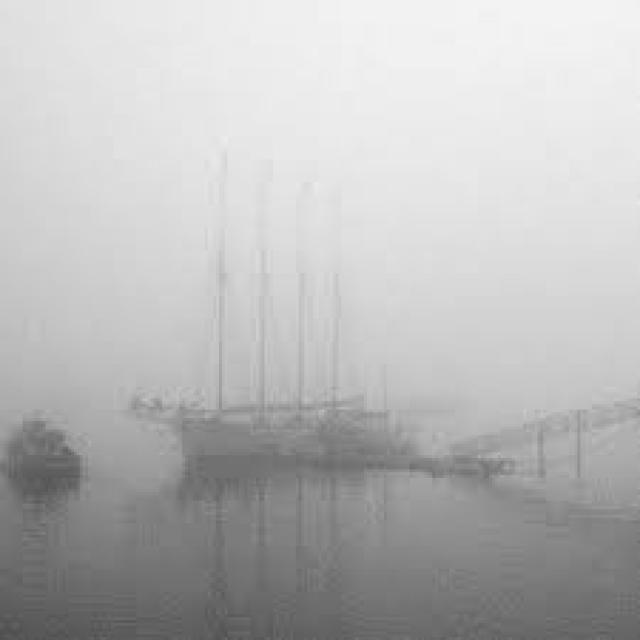fishing boat: (134, 247, 448, 474), (0, 416, 96, 493)
